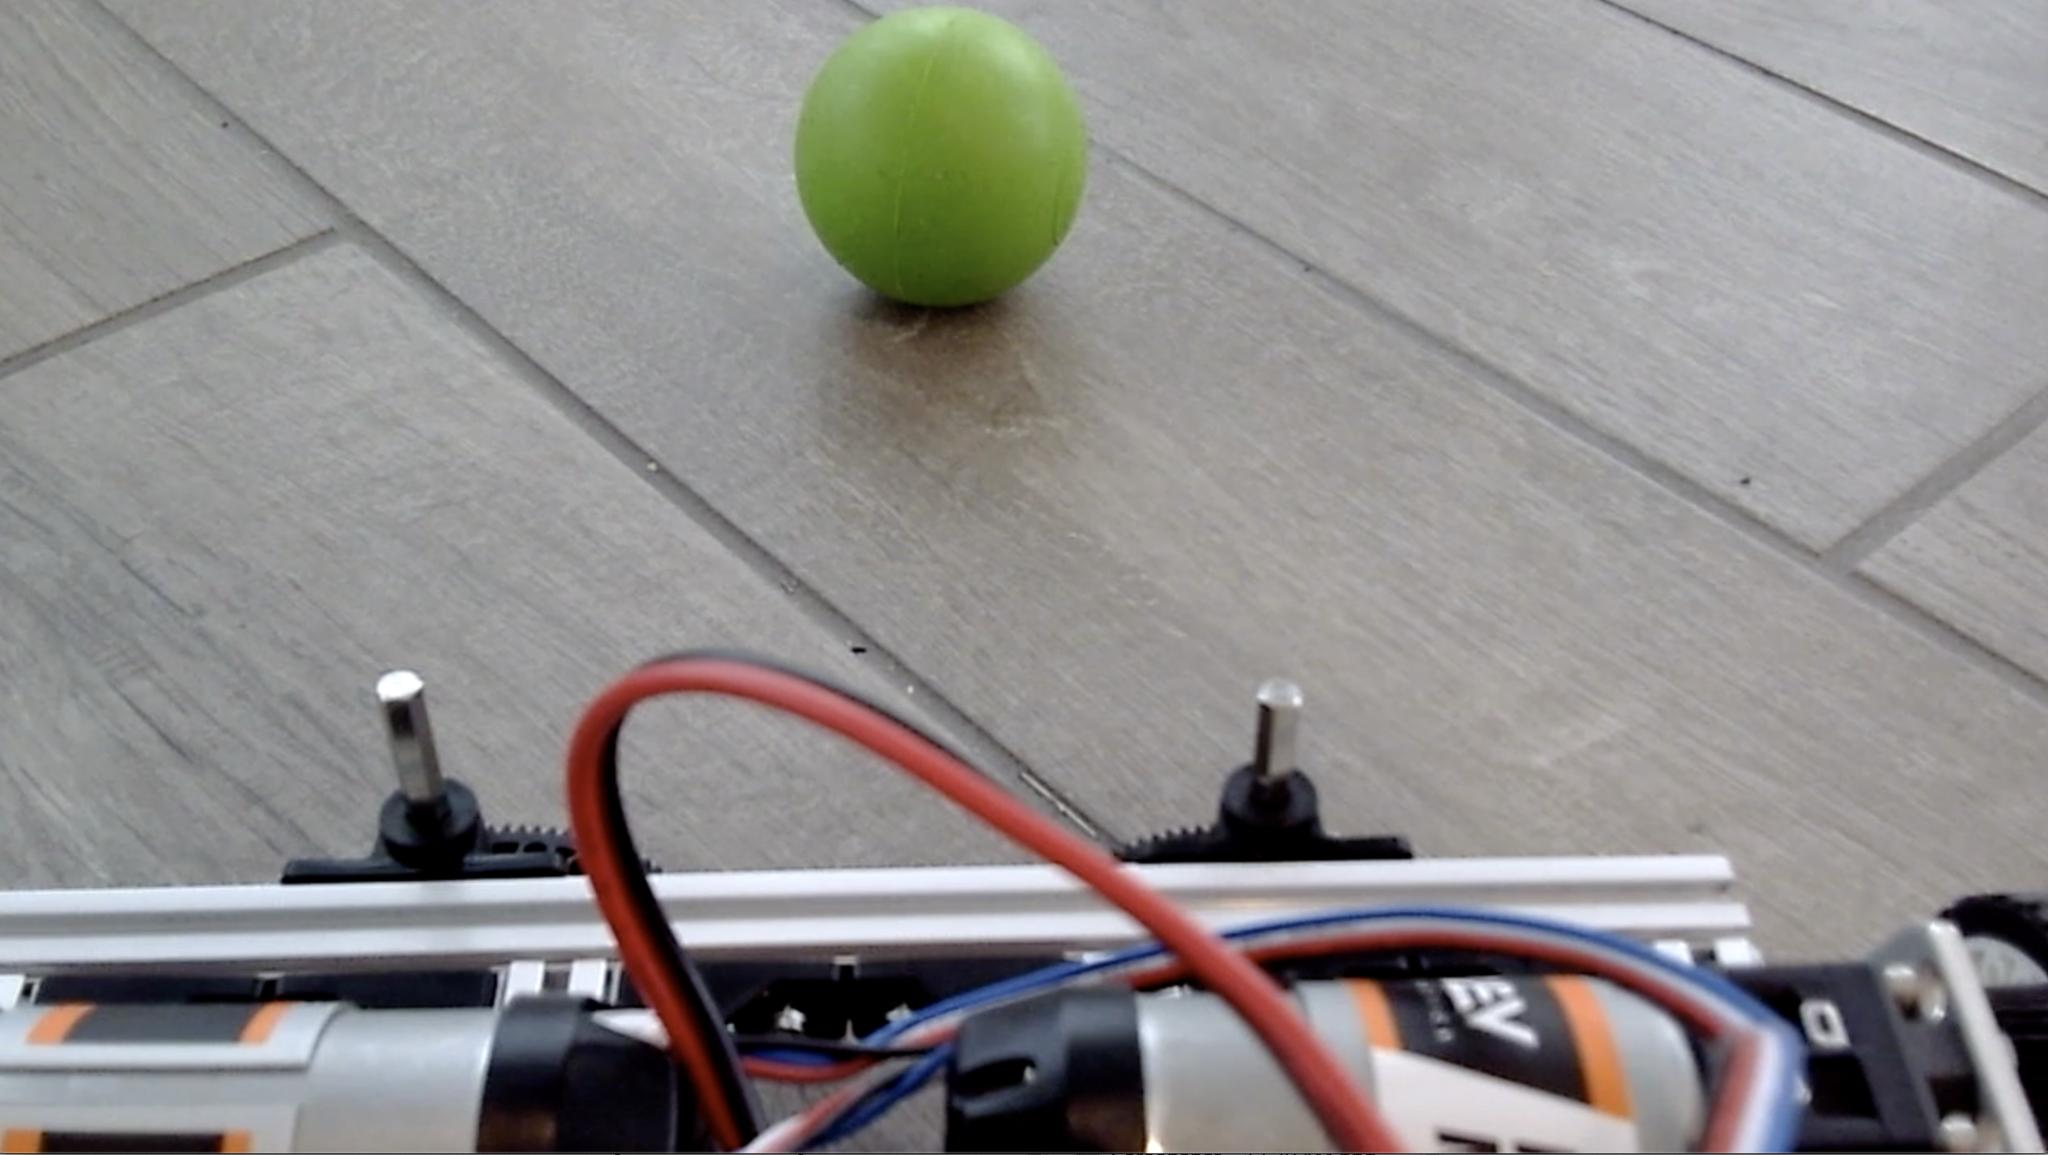greenball: (789, 4, 1090, 311)
